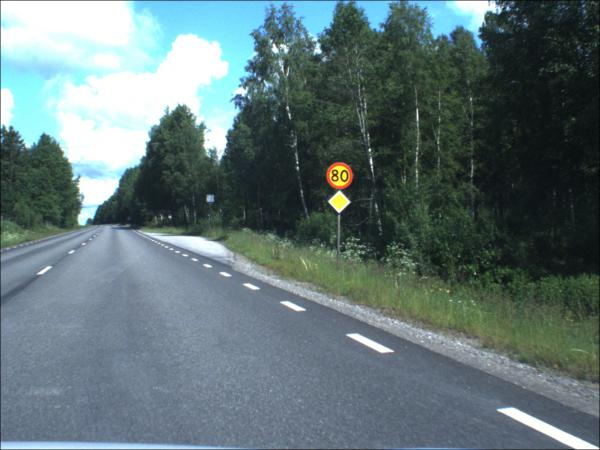80_SIGN: (328, 164, 356, 191)
PRIORITY_ROAD: (329, 191, 353, 215)
